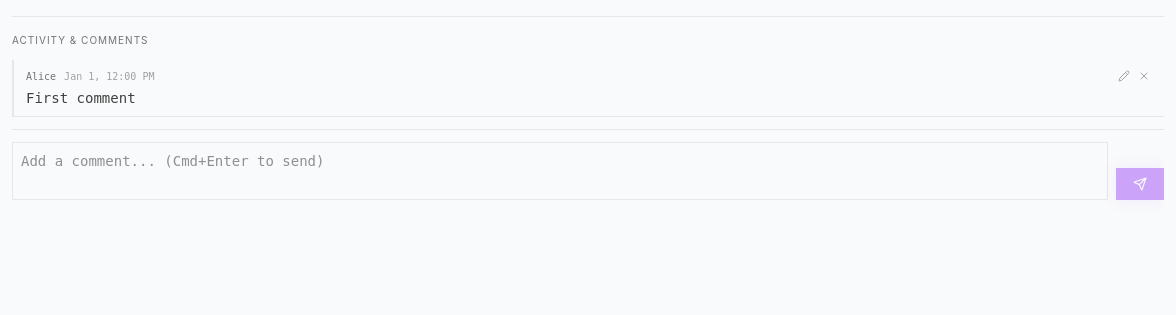
CommentThread › clicking Cancel exits edit mode without saving
This screenshot has width=1176, height=315.
// Enter edit mode
Click the button named "Edit comment" at (1124, 76), box top-left (1116, 68), bottom-right (1132, 84)
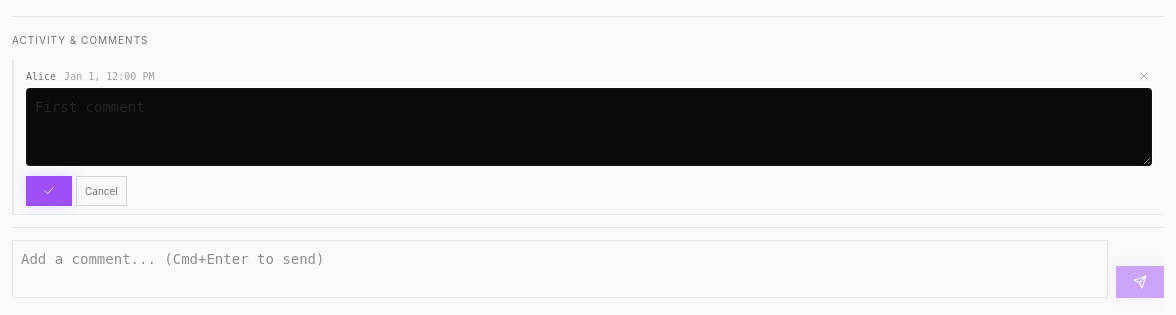
// Change the text
Replace the text in the text box showing "First comment" with "Should not be saved" at (589, 127), box top-left (26, 88), bottom-right (1152, 166)
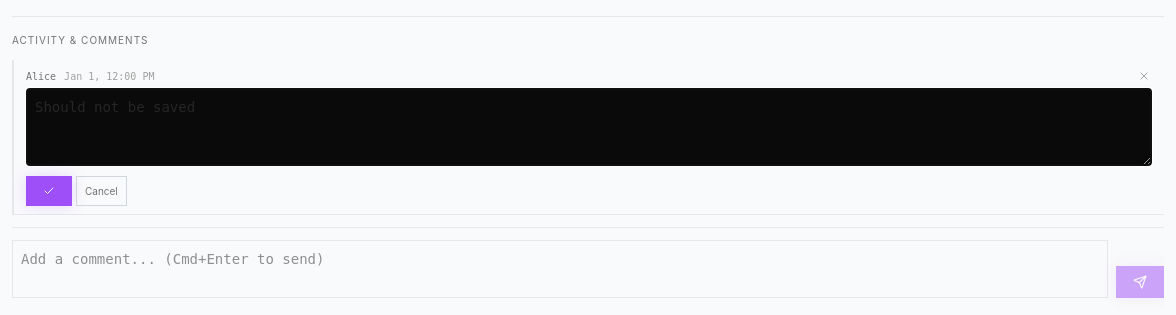
// Click Cancel
Click the button "Cancel" at (101, 191), box top-left (76, 176), bottom-right (127, 206)
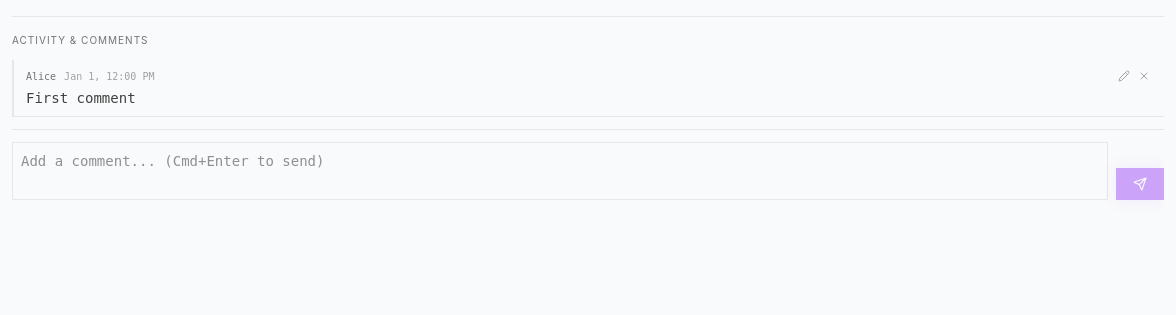
Result: the text "First comment" is shown at top-left (26, 90), bottom-right (136, 106)
